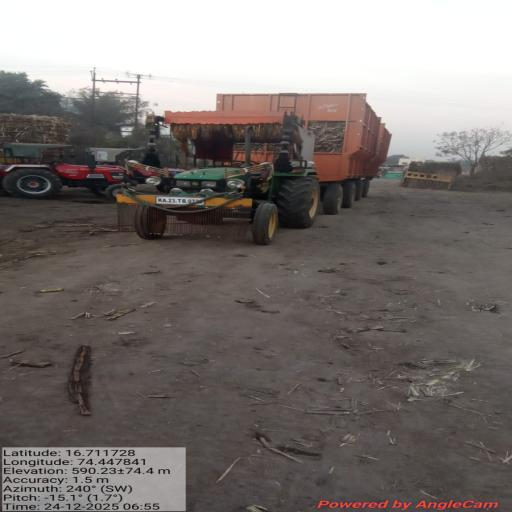number_plate: (140, 193, 216, 210)
